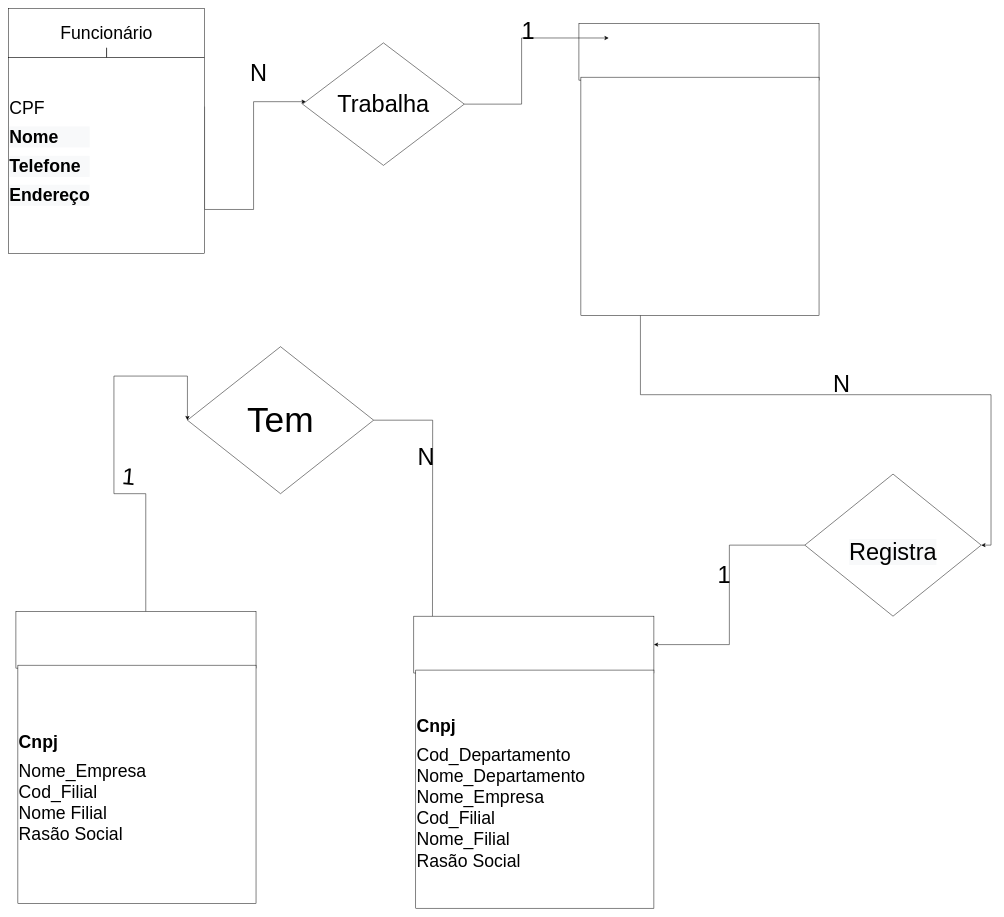
This 1004x917 diagram has some shape labels left out. Here are the shapes that lost their labels. From the top down, the centre of each, then its label:
At pixel 698 51: "Departamento".
At pixel 699 196: "Cnpj Cod_Departamento Nome_Departamento Cod_Filial CPF".
At pixel 135 639: "Empresa".
At pixel 533 644: "Filial".
